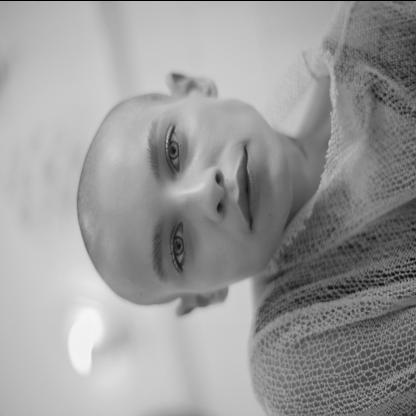Eye: (169, 220, 188, 272), (164, 123, 184, 172)
Mouth: (235, 146, 259, 230)
Nose: (180, 168, 226, 218)
